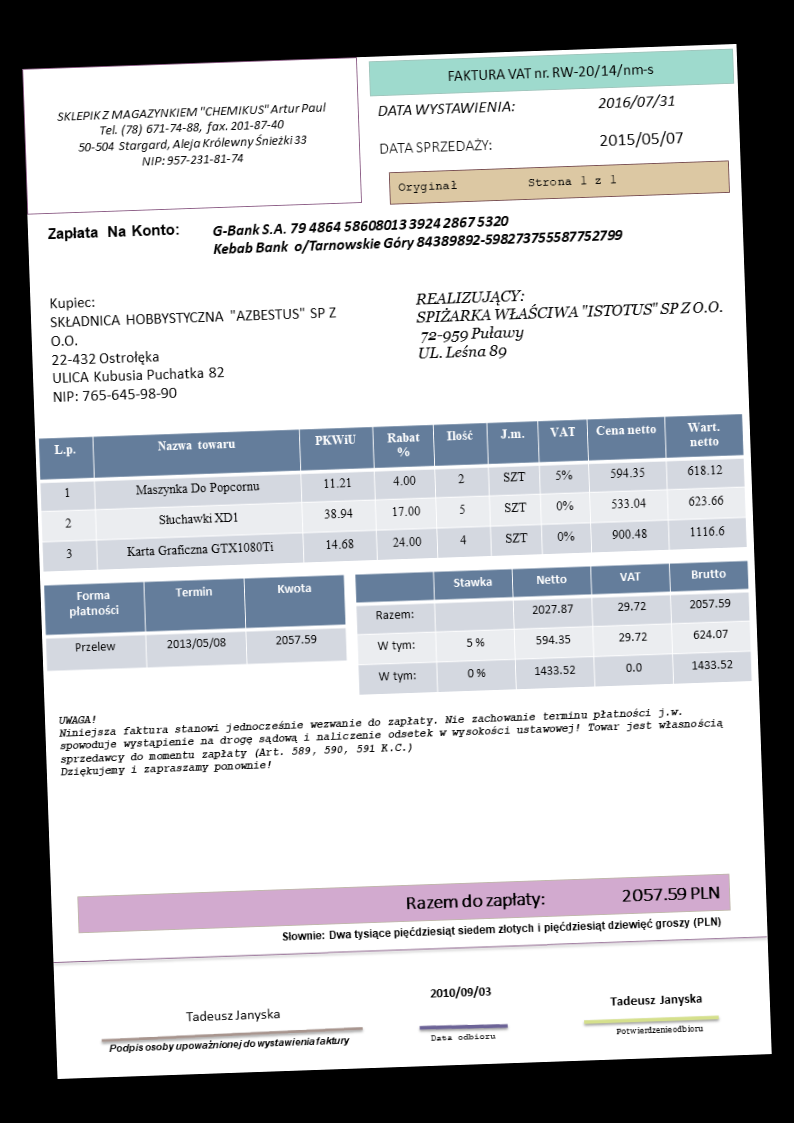Table: (37, 412, 749, 573), (353, 559, 752, 697), (42, 573, 348, 673)
TextBox: (56, 688, 729, 780), (45, 284, 342, 405), (411, 279, 727, 365), (51, 95, 331, 174), (209, 206, 625, 259), (278, 912, 723, 946), (402, 878, 724, 914), (105, 1029, 353, 1057), (444, 56, 656, 88), (395, 170, 621, 197), (375, 95, 517, 120), (45, 219, 180, 243), (376, 133, 494, 159), (595, 127, 687, 152), (608, 988, 706, 1011), (183, 1004, 282, 1025), (594, 90, 677, 112), (614, 1022, 705, 1039), (427, 981, 493, 1001), (428, 1029, 498, 1045)
